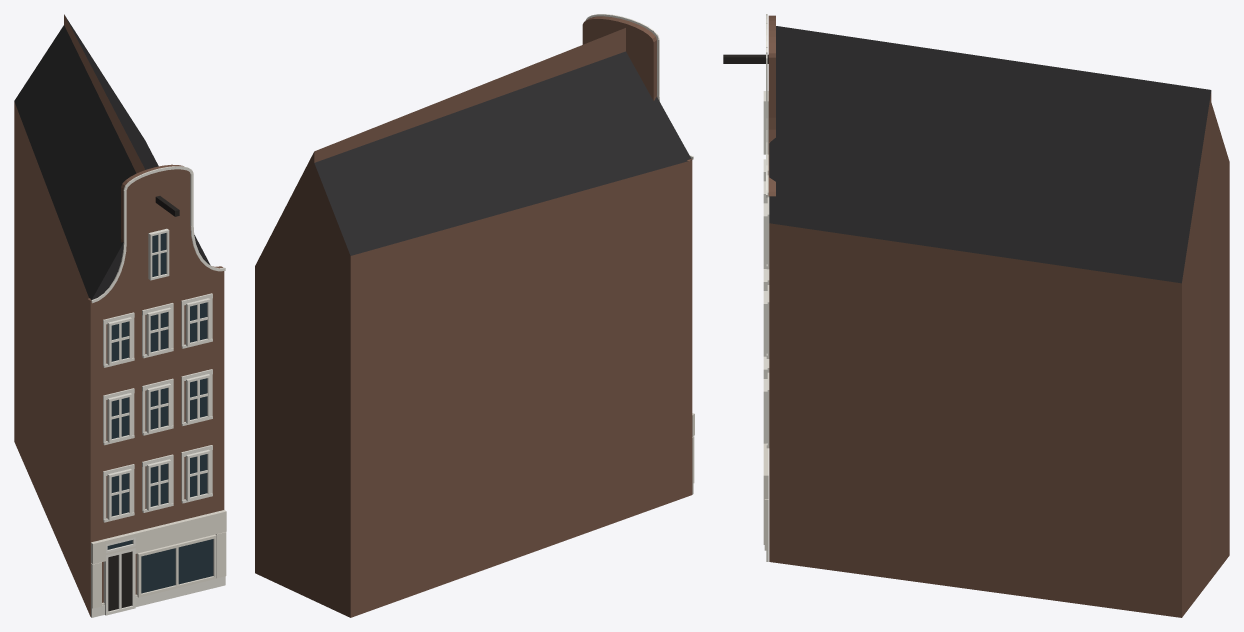
The picture shows the model from 3 angles, left to right: view 1: azimuth 30°, elevation 25°; view 2: azimuth 150°, elevation 25°; view 3: azimuth 270°, elevation 25°; orthographic projection. The views are drawn at different scales.
Parts seen in each view (by area): view 1: spec-0363100012182551; view 2: spec-0363100012182551; view 3: spec-0363100012182551.
Boxes of the visible parts, x1=… form: spec-0363100012182551: x1=14, y1=14, x2=226, y2=617; spec-0363100012182551: x1=255, y1=14, x2=694, y2=617; spec-0363100012182551: x1=723, y1=14, x2=1229, y2=617.
Bounding box in the file's own units: 7.44 × 13.2 × 12.1.
